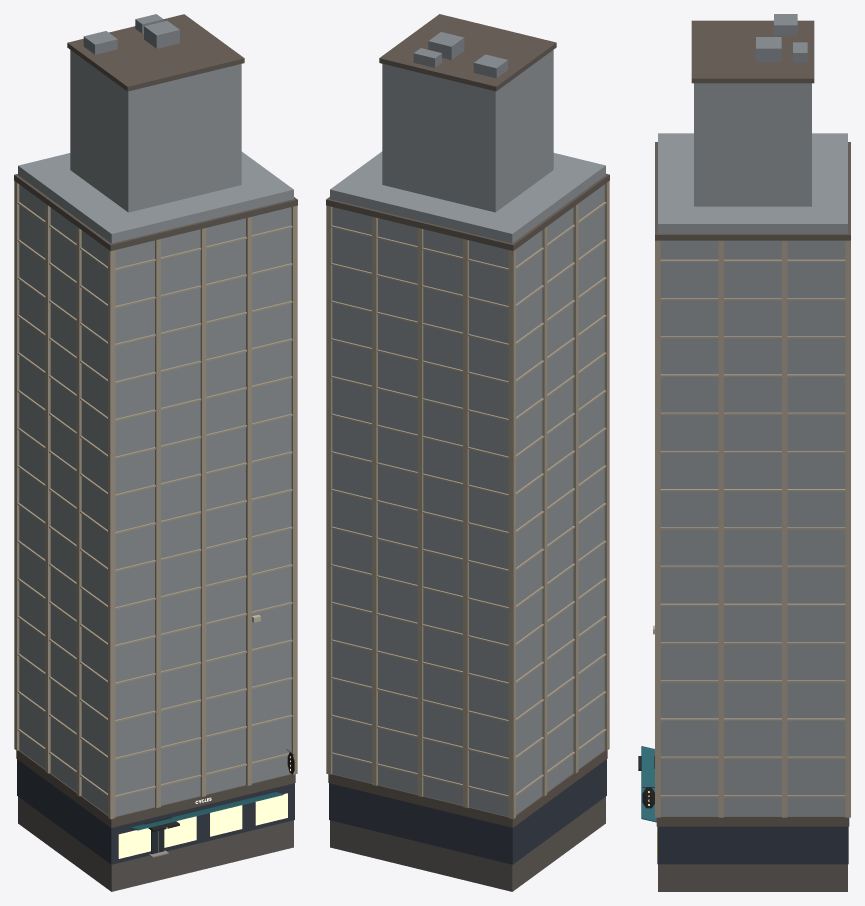
File: building_4.glb
3 renders of one model, left to right at view 1: azimuth 30°, elevation 25°; view 2: azimuth 150°, elevation 25°; view 3: azimuth 270°, elevation 25°, orthographic.
Parts seen in each view (by area): view 1: building; view 2: building; view 3: building.
Boxes of the visible parts, x1,y1,x2,y2 form: building: [14, 14, 297, 891]; building: [326, 14, 609, 891]; building: [638, 14, 850, 891].
Bounding box in the file's own units: 18.5 × 75.3 × 17.93.
